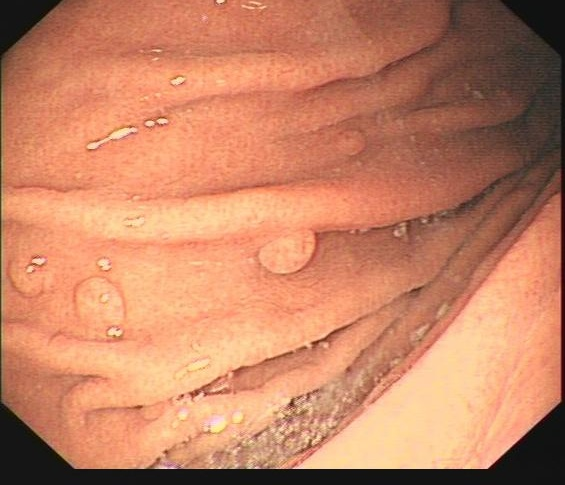Polyp: (6, 232, 184, 433), (243, 217, 334, 289)
